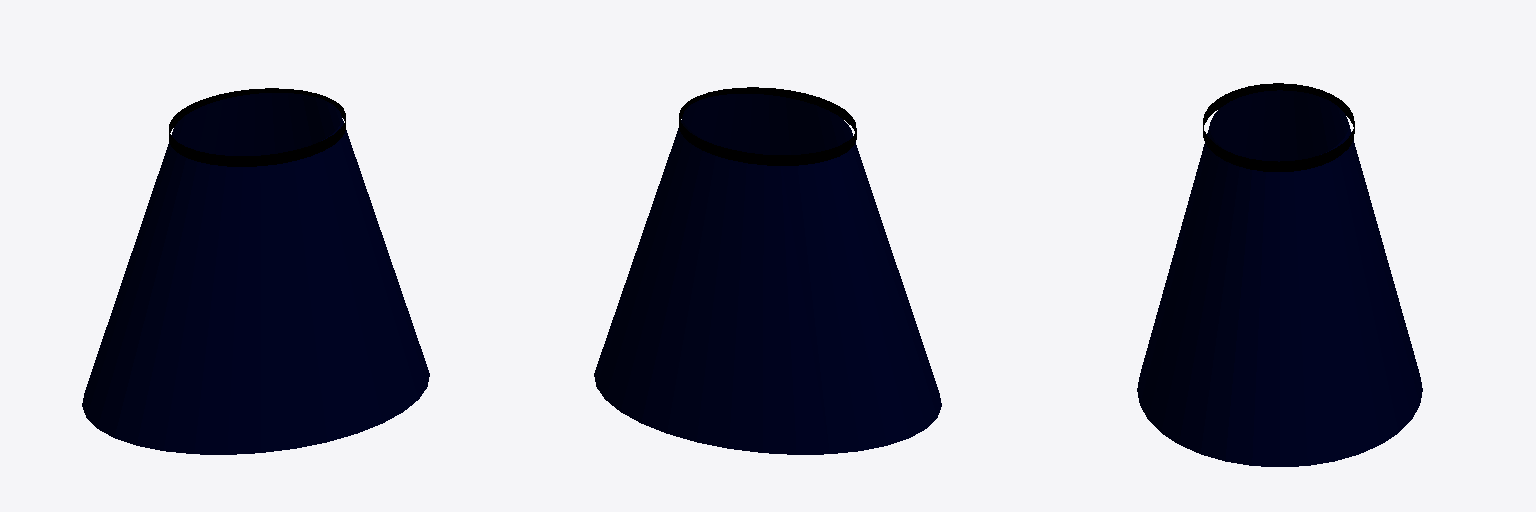
The model's file is simple_skirt_blue.obj.
3 renders of one model, left to right at view 1: azimuth 30°, elevation 25°; view 2: azimuth 150°, elevation 25°; view 3: azimuth 270°, elevation 25°, orthographic.
Parts seen in each view (by area): view 1: Cone, Cylinder_Cylinder.003; view 2: Cone, Cylinder_Cylinder.003; view 3: Cone, Cylinder_Cylinder.003.
Part boxes in pixels (bbox=[...]): Cone: bbox=[82, 93, 429, 454]; Cylinder_Cylinder.003: bbox=[169, 88, 345, 166]; Cone: bbox=[594, 94, 941, 454]; Cylinder_Cylinder.003: bbox=[679, 87, 856, 165]; Cone: bbox=[1137, 90, 1422, 466]; Cylinder_Cylinder.003: bbox=[1203, 83, 1354, 171].
Size of the model in its own units: 0.4669 by 0.3766 by 0.3639.